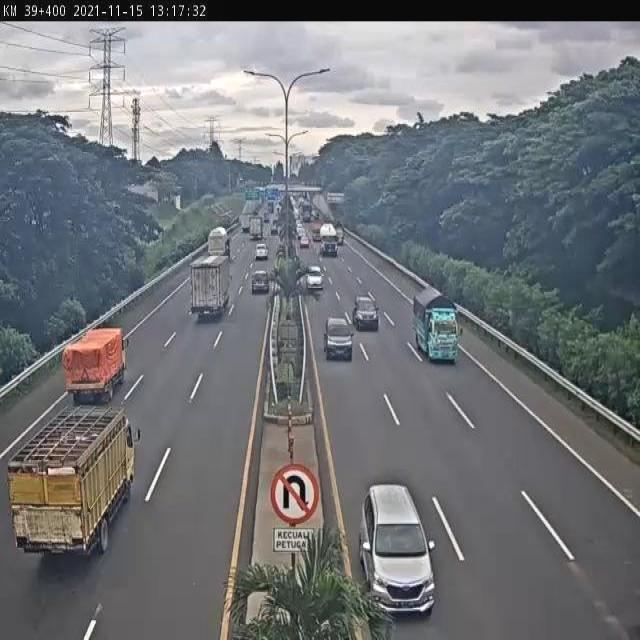Car: (362, 485, 437, 622), (324, 315, 353, 363), (353, 297, 379, 333), (305, 266, 323, 293), (252, 270, 268, 294), (256, 243, 269, 260), (300, 234, 310, 249), (298, 228, 308, 240)
Truck: (6, 410, 141, 560), (55, 328, 128, 404), (412, 286, 460, 365), (190, 256, 231, 318), (207, 226, 230, 263), (319, 225, 338, 257), (248, 214, 266, 241), (240, 212, 256, 234)
